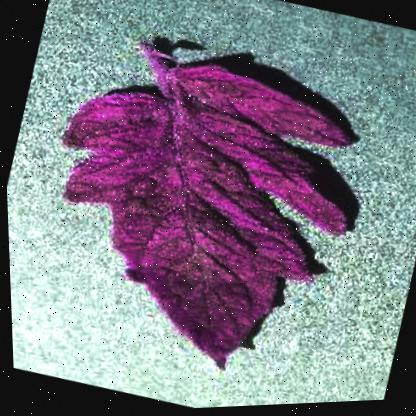Virus: (5, 0, 401, 408)
